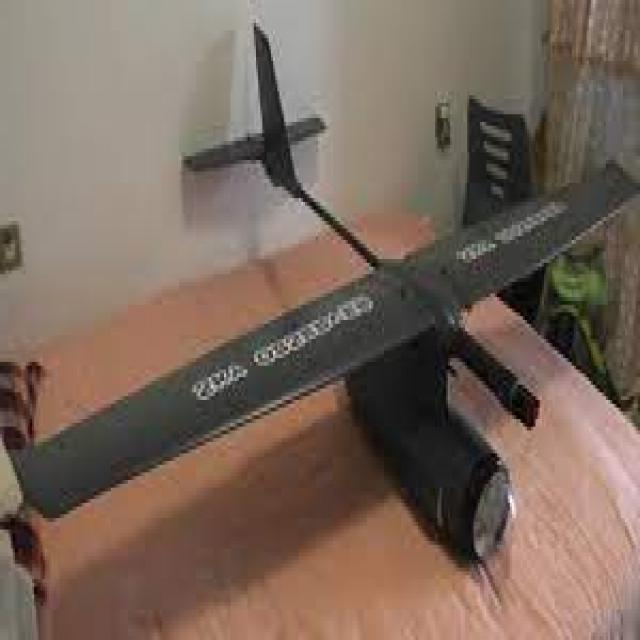plane: (12, 19, 640, 564)
